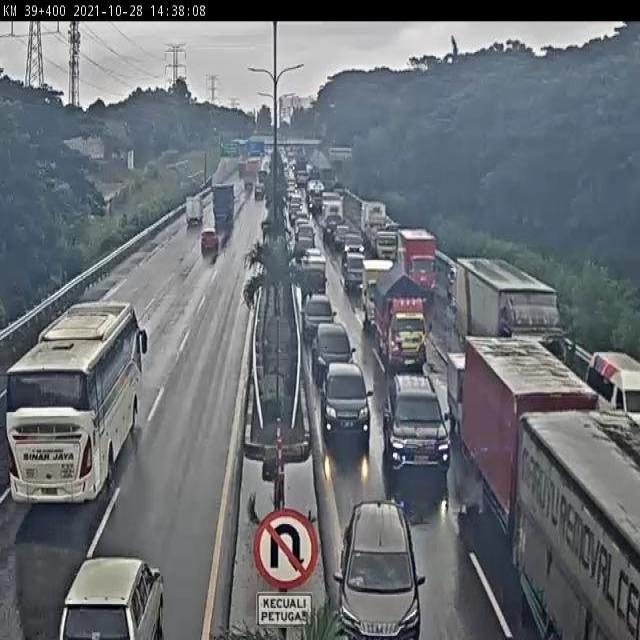big bus: (3, 279, 151, 505)
big truck: (463, 329, 597, 511), (458, 248, 571, 372), (398, 232, 439, 301)
car: (339, 493, 426, 638), (71, 529, 169, 640), (382, 374, 455, 482), (322, 352, 374, 471), (312, 313, 360, 396), (301, 288, 336, 351), (343, 249, 367, 299), (299, 254, 329, 294)
small bus: (587, 338, 640, 434)
small truck: (381, 279, 435, 368), (358, 254, 394, 326)
